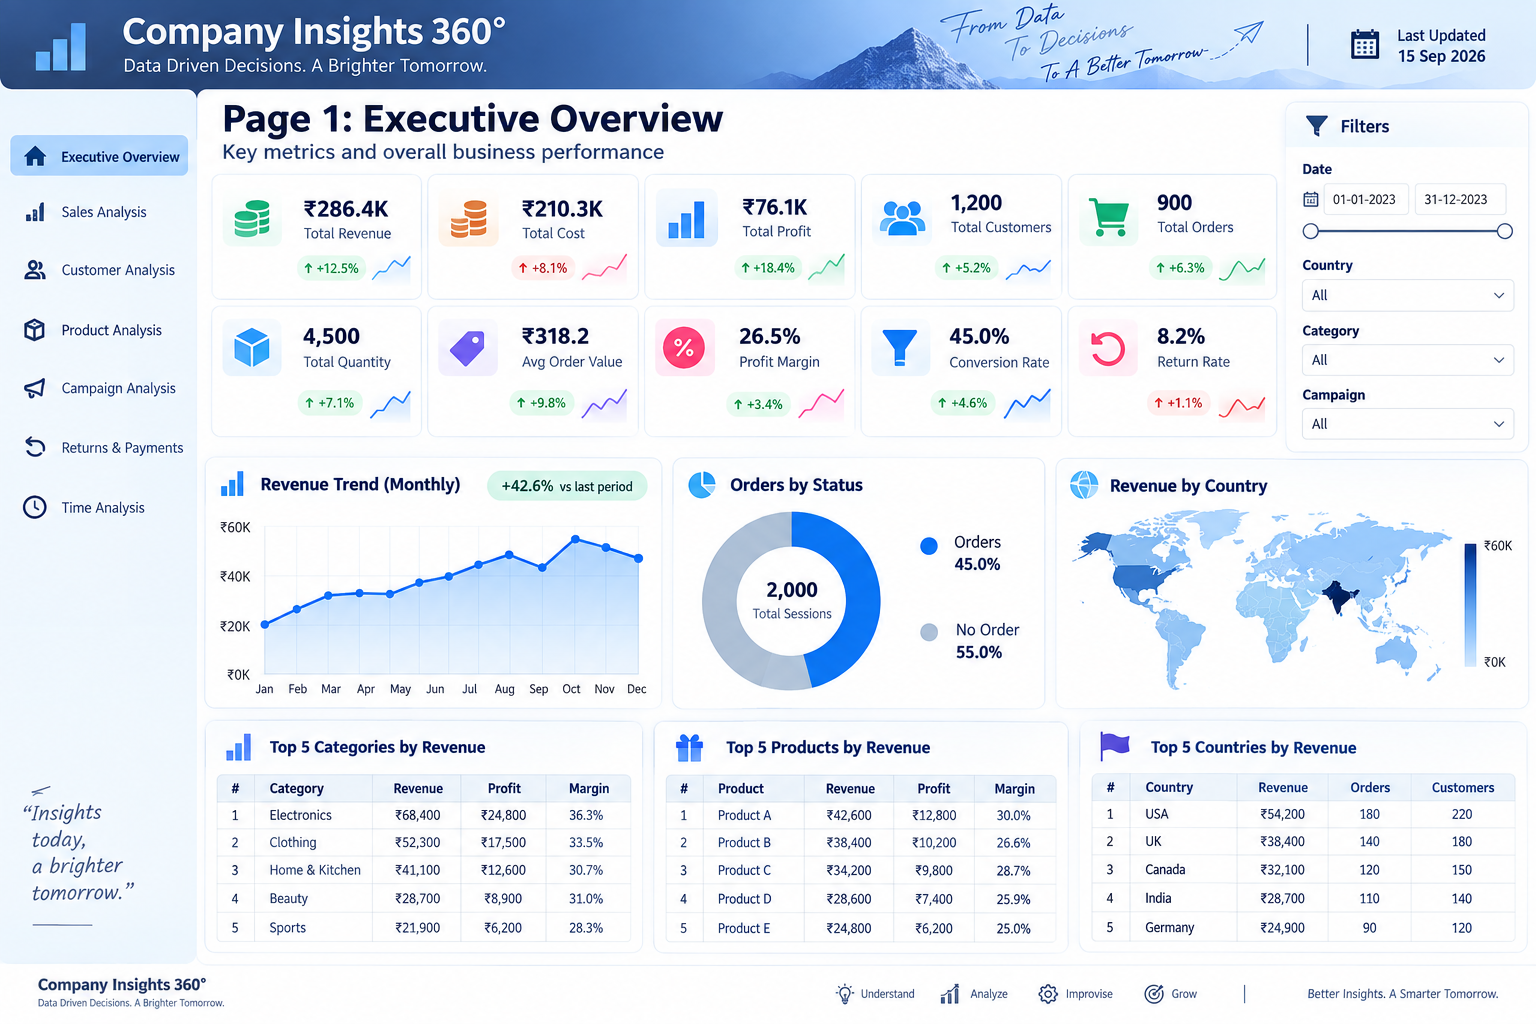

The page's visual inventory and layout, read from the dashboard file:
{"tool":"powerbi","page":{"name":"Executive Overview","canvas":[1920,1080],"ordinal":0},"visuals":[{"type":"image","box":[0,0,1919.3,136.3],"z":0},{"type":"image","box":[0,22.7,76.5,87.9],"z":1000},{"type":"textbox","box":[81.8,31.8,447.4,93.1],"z":2000},{"type":"cardVisual","fields":{"Data":["company_data_cleaned.Total Revenue"]},"box":[306.1,153.1,223.9,150.2],"z":3000},{"type":"cardVisual","fields":{"Data":["company_data_cleaned.Total Cost"]},"box":[549.9,153.1,223.9,150.2],"z":4000},{"type":"cardVisual","fields":{"Data":["company_data_cleaned.Total Profit"]},"box":[793.7,155.9,223.9,150.2],"z":5000},{"type":"cardVisual","fields":{"Data":["company_data_cleaned.Total Orders"]},"box":[1037.5,155.9,223.9,150.2],"z":6000},{"type":"cardVisual","fields":{"Data":["company_data_cleaned.Total Quantity"]},"box":[1281.3,155.9,223.9,150.2],"z":7000},{"type":"cardVisual","fields":{"Data":["company_data_cleaned.Average Order Value"]},"box":[304.9,313.2,223.9,150.2],"z":8000},{"type":"cardVisual","fields":{"Data":["company_data_cleaned.Profit Margin"]},"box":[548.7,313.2,223.9,150.2],"z":9000},{"type":"cardVisual","fields":{"Data":["company_data_cleaned.Conversion Rate"]},"box":[792.4,316.1,223.9,150.2],"z":10000},{"type":"cardVisual","fields":{"Data":["company_data_cleaned.Return Rate"]},"box":[1036.2,316.1,223.9,150.2],"z":11000},{"type":"cardVisual","fields":{"Data":["company_data_cleaned.Total Customers"]},"box":[1280,316.1,223.9,150.2],"z":12000},{"type":"image","box":[565.6,197.6,61.3,68.1],"z":13000},{"type":"image","box":[808.6,199.9,61.3,61.3],"z":14000},{"type":"image","box":[320.3,199.9,61.3,61.3],"z":15000},{"type":"image","box":[1299.2,356.6,68.1,68.1],"z":16000},{"type":"image","box":[1285.6,209,77.2,52.2],"z":17000},{"type":"image","box":[558.7,358.9,84,65.9],"z":18000},{"type":"image","box":[1047.1,199.9,77.2,56.8],"z":19000},{"type":"image","box":[318,358.9,61.3,65.9],"z":20000},{"type":"image","box":[806.3,352.1,61.3,79.5],"z":21000},{"type":"image","box":[1038,363.4,81.8,59.1],"z":22000},{"type":"lineChart","title":"Revenue Trend (Monthly)","fields":{"Category":["company_data_cleaned.SessionDate.Variation.Date Hierarchy.Month"],"Y":["company_data_cleaned.Total Revenue"]},"box":[304.4,479.2,470.2,281.6],"z":23000},{"type":"donutChart","title":"Orders by Status","fields":{"Category":["company_data_cleaned.Order Status"],"Y":["Sum(company_data_cleaned.OrderFlag)"]},"box":[792.7,479.2,470.2,281.6],"z":24000},{"type":"filledMap","title":"Revenue by Country","fields":{"Category":["company_data_cleaned.Country"]},"box":[1283.3,479.2,558.7,281.6],"z":25000},{"type":"tableEx","title":"Top 5 Categories by Revenue","fields":{"Values":["company_data_cleaned.Category","company_data_cleaned.Total Revenue","company_data_cleaned.Total Profit","Sum(company_data_cleaned.ProfitMargin)"]},"box":[304.4,779.1,470.2,283.9],"z":26000},{"type":"tableEx","title":"Top 5 Products by Revenue","fields":{"Values":["company_data_cleaned.Product","company_data_cleaned.Total Revenue","company_data_cleaned.Total Profit","Sum(company_data_cleaned.ProfitMargin)"]},"box":[804,779.1,470.2,283.9],"z":27000},{"type":"tableEx","title":"Top 5 Products by Revenue","fields":{"Values":["company_data_cleaned.Country","company_data_cleaned.Total Revenue","company_data_cleaned.Total Profit","Sum(company_data_cleaned.ProfitMargin)"]},"box":[1283.3,779.1,558.7,283.9],"z":28000},{"type":"shape","box":[18.2,152.2,270.3,910.8],"z":29000},{"type":"slicer","fields":{"Values":["company_data_cleaned.Date Filter"]},"box":[1580.8,156.7,293,84],"z":30000},{"type":"slicer","fields":{"Values":["company_data_cleaned.Country"]},"box":[1580.8,247.6,293,70.4],"z":31000},{"type":"slicer","fields":{"Values":["company_data_cleaned.Category"]},"box":[1580.8,322.5,293,70.4],"z":32000},{"type":"slicer","fields":{"Values":["company_data_cleaned.CampaignSchema "]},"box":[1580.8,402,293,70.4],"z":33000},{"type":"pageNavigator","box":[38.6,156.7,233.9,890.4],"z":34000}]}

Visuals, with their boxes on the page's 1920x1080 design canvas (x1, y1, x2, y2). These are canvas units, not pixel positions in the 1536x1024 screenshot, which may show the page scaled, cropped or inside an application window:
image: l=0, t=0, r=1919, b=136
image: l=0, t=23, r=76, b=111
textbox: l=82, t=32, r=529, b=125
cardVisual - company_data_cleaned.Total Revenue: l=306, t=153, r=530, b=303
cardVisual - company_data_cleaned.Total Cost: l=550, t=153, r=774, b=303
cardVisual - company_data_cleaned.Total Profit: l=794, t=156, r=1018, b=306
cardVisual - company_data_cleaned.Total Orders: l=1038, t=156, r=1261, b=306
cardVisual - company_data_cleaned.Total Quantity: l=1281, t=156, r=1505, b=306
cardVisual - company_data_cleaned.Average Order Value: l=305, t=313, r=529, b=463
cardVisual - company_data_cleaned.Profit Margin: l=549, t=313, r=773, b=463
cardVisual - company_data_cleaned.Conversion Rate: l=792, t=316, r=1016, b=466
cardVisual - company_data_cleaned.Return Rate: l=1036, t=316, r=1260, b=466
cardVisual - company_data_cleaned.Total Customers: l=1280, t=316, r=1504, b=466
image: l=566, t=198, r=627, b=266
image: l=809, t=200, r=870, b=261
image: l=320, t=200, r=382, b=261
image: l=1299, t=357, r=1367, b=425
image: l=1286, t=209, r=1363, b=261
image: l=559, t=359, r=643, b=425
image: l=1047, t=200, r=1124, b=257
image: l=318, t=359, r=379, b=425
image: l=806, t=352, r=868, b=432
image: l=1038, t=363, r=1120, b=422
"Revenue Trend (Monthly)" lineChart: l=304, t=479, r=775, b=761
"Orders by Status" donutChart: l=793, t=479, r=1263, b=761
"Revenue by Country" filledMap: l=1283, t=479, r=1842, b=761
"Top 5 Categories by Revenue" tableEx: l=304, t=779, r=775, b=1063
"Top 5 Products by Revenue" tableEx: l=804, t=779, r=1274, b=1063
"Top 5 Products by Revenue" tableEx: l=1283, t=779, r=1842, b=1063
shape: l=18, t=152, r=288, b=1063
slicer - company_data_cleaned.Date Filter: l=1581, t=157, r=1874, b=241
slicer - company_data_cleaned.Country: l=1581, t=248, r=1874, b=318
slicer - company_data_cleaned.Category: l=1581, t=322, r=1874, b=393
slicer - company_data_cleaned.CampaignSchema : l=1581, t=402, r=1874, b=472
pageNavigator: l=39, t=157, r=272, b=1047
